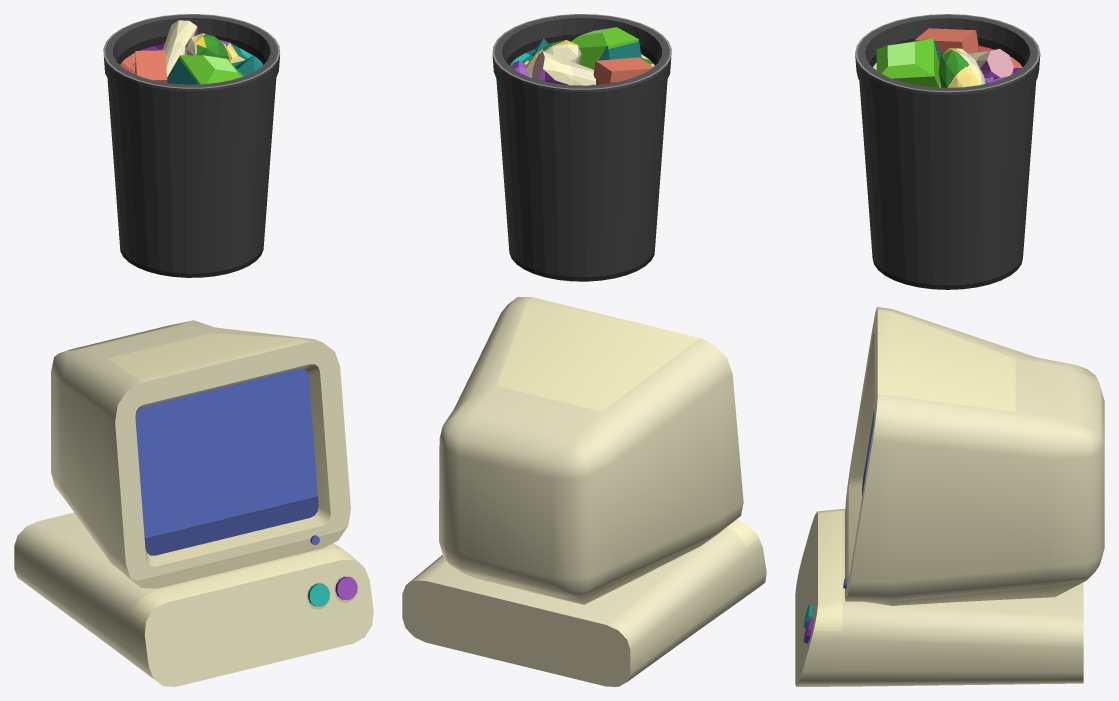
File: office_props.fbx
3 renders of one model, left to right at view 1: azimuth 30°, elevation 25°; view 2: azimuth 150°, elevation 25°; view 3: azimuth 270°, elevation 25°, orthographic. The views are drawn at different scales.
Parts seen in each view (by area): view 1: Computer, Cylinder; view 2: Computer, Cylinder; view 3: Computer, Cylinder.
Part boxes in pixels (x1=…): Computer: x1=14, y1=320, x2=373, y2=686; Cylinder: x1=103, y1=14, x2=280, y2=277; Computer: x1=402, y1=297, x2=766, y2=686; Cylinder: x1=492, y1=14, x2=671, y2=281; Computer: x1=795, y1=307, x2=1104, y2=686; Cylinder: x1=855, y1=14, x2=1040, y2=289.
Bounding box in the file's own units: 60 × 146 × 68.27.
Materials: 1 (1 with a texture image).
